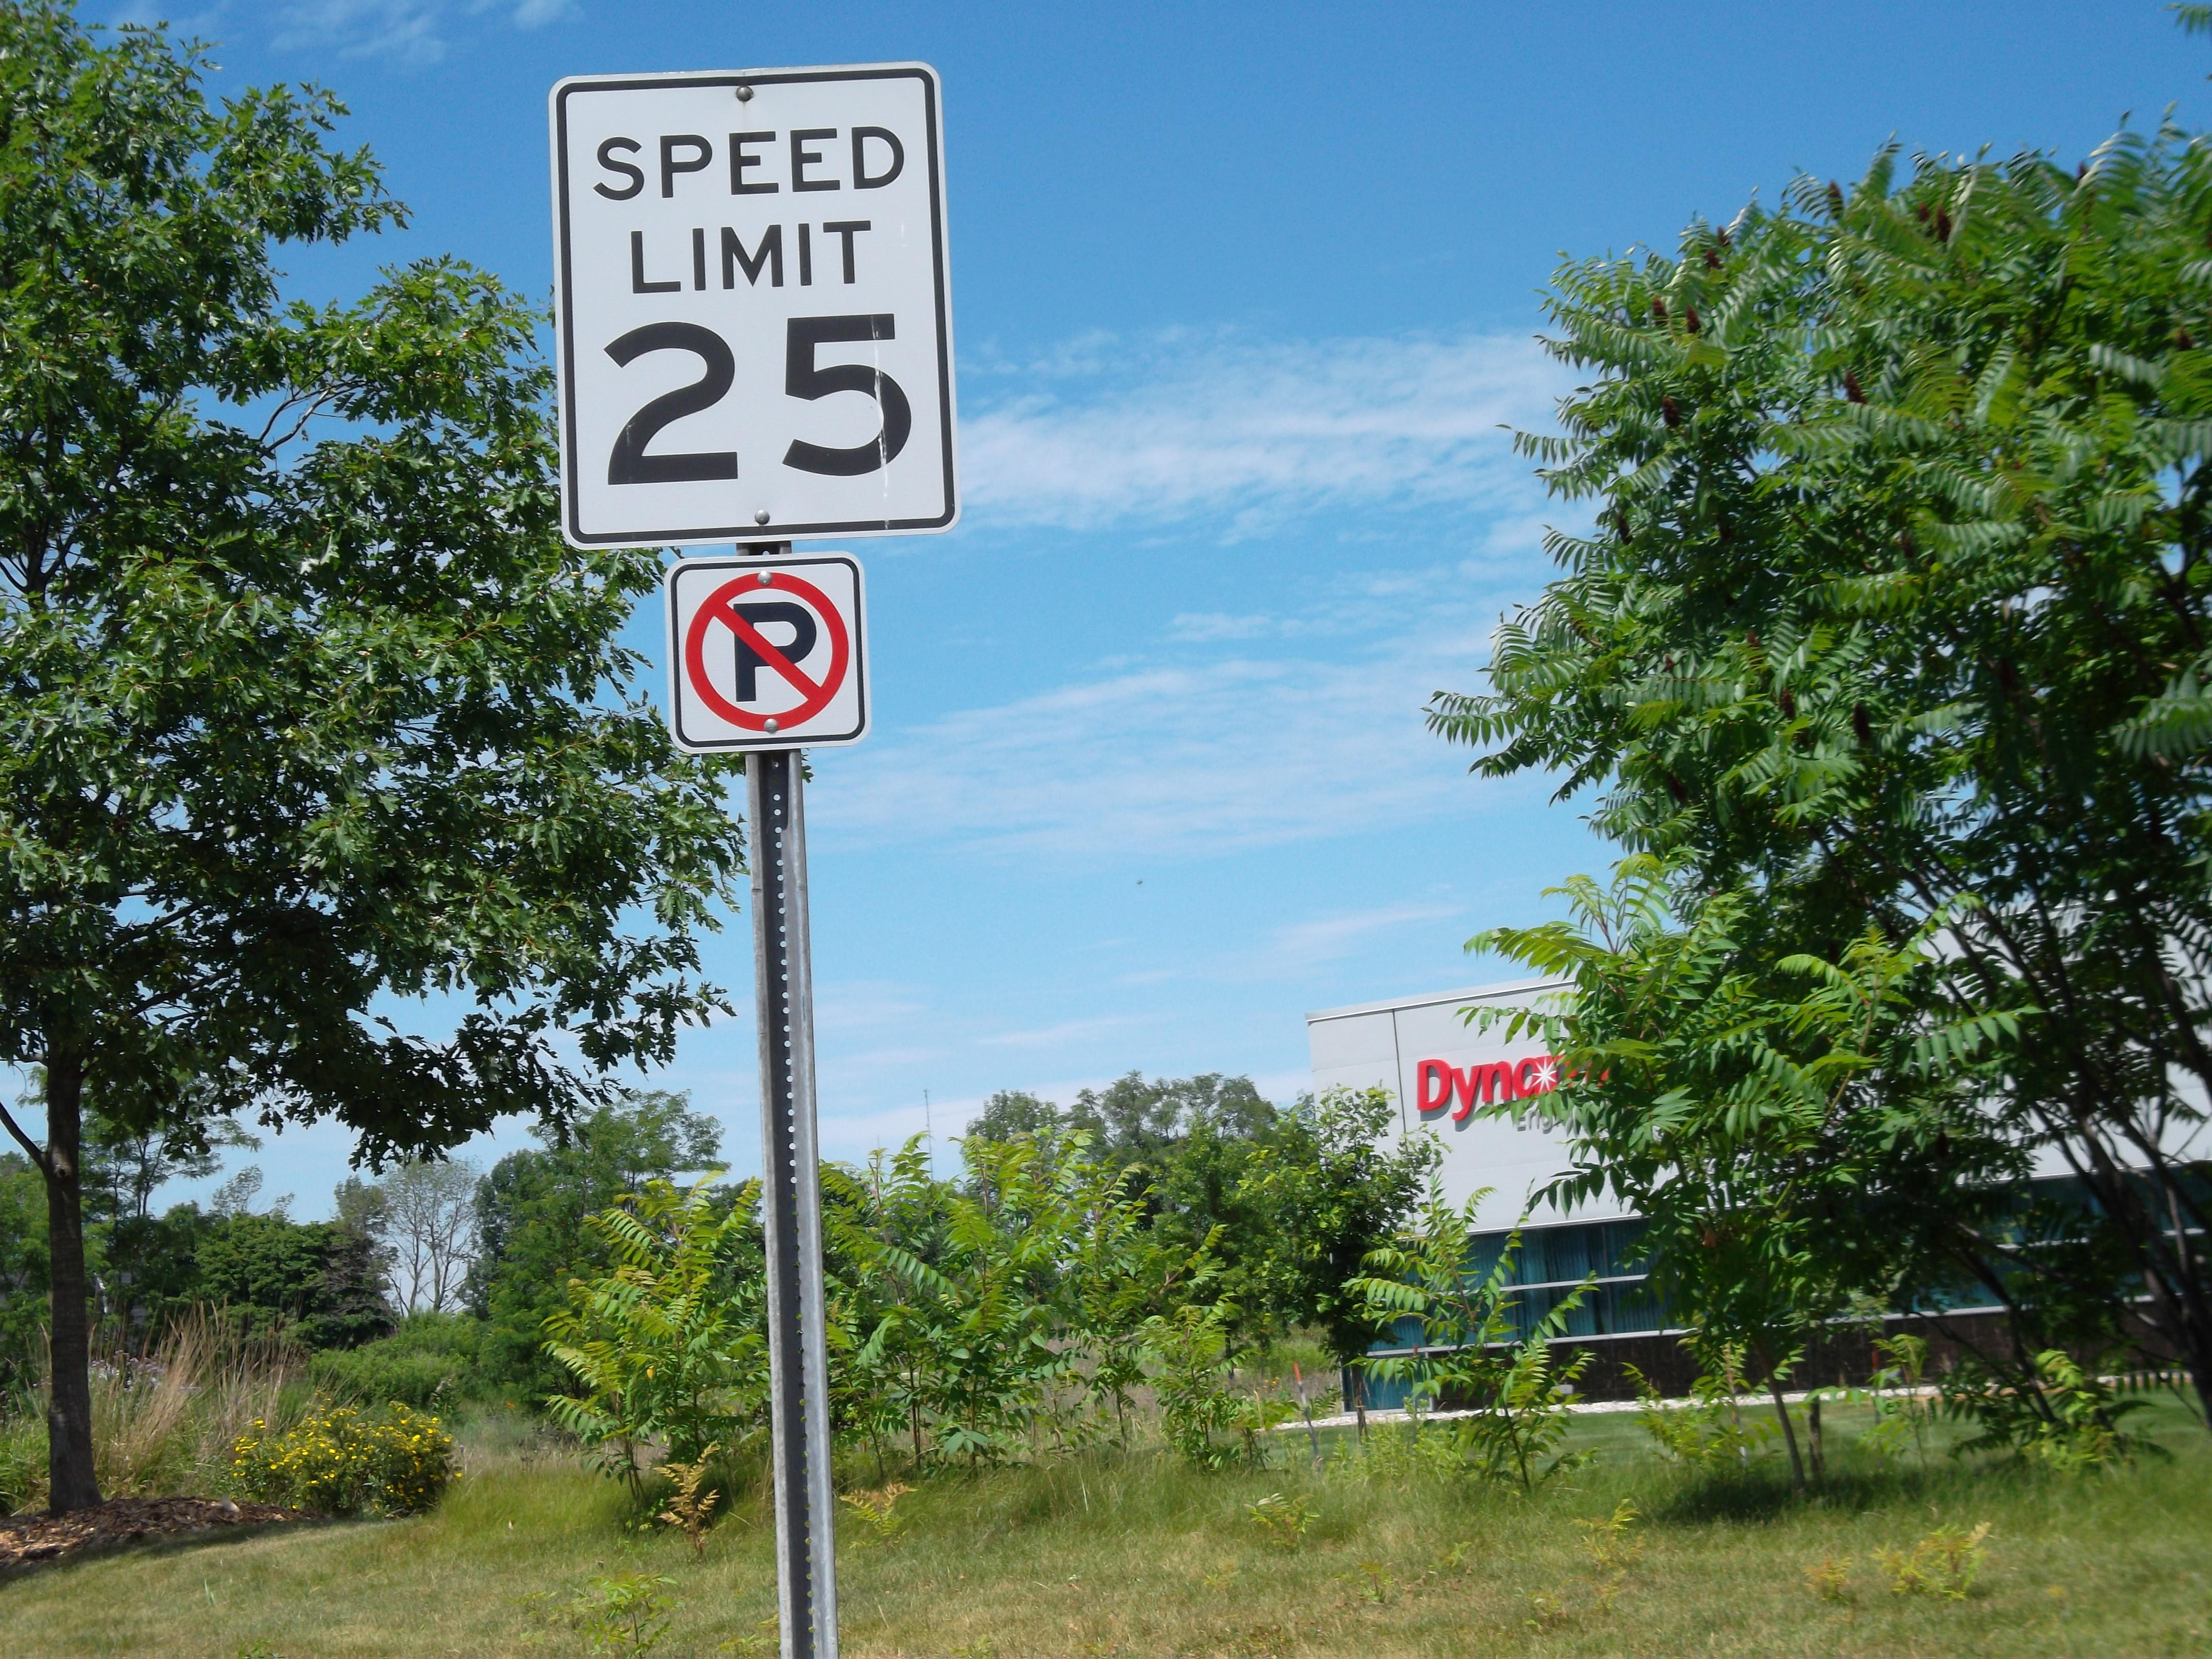regulatory: (550, 56, 956, 547), (644, 551, 874, 753)
